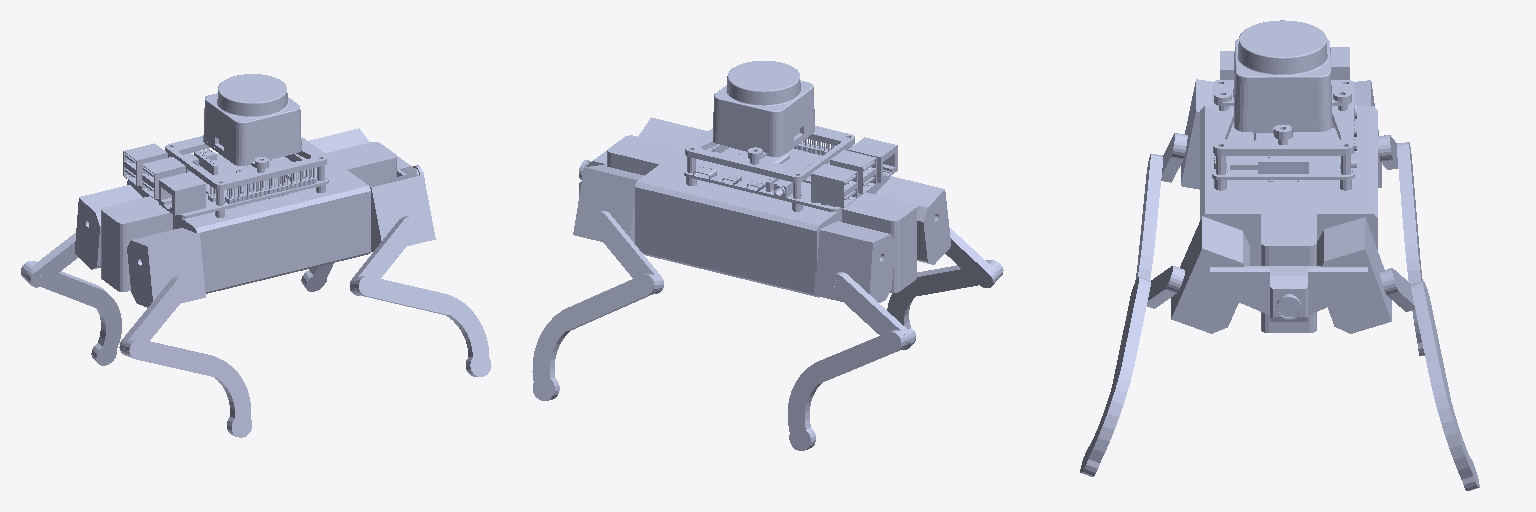
URDF robot description (quadruped_robot):
<?xml version="1.0" encoding="utf-8"?>
<!-- This URDF was automatically created by SolidWorks to URDF Exporter! Originally created by [author] ([email redacted]) 
     Commit Version: 1.6.0-4-g7f85cfe  Build Version: 1.6.7995.38578
     For more information, please see http://wiki.ros.org/sw_urdf_exporter -->
<robot
  name="quadruped_robot">
  <link
    name="base_link">
    <inertial>
      <origin
        xyz="2.5071E-05 -0.00017258 0.020875"
        rpy="0 0 0" />
      <mass
        value="0.3417" />
      <inertia
        ixx="0.00015104"
        ixy="-1.3934E-08"
        ixz="6.3507E-08"
        iyy="0.00047549"
        iyz="2.3538E-08"
        izz="0.00055234" />
    </inertial>
    <visual>
      <origin
        xyz="0 0 0"
        rpy="0 0 0" />
      <geometry>
        <mesh
          filename="package://robot_sim/meshes/base_link.STL" />
      </geometry>
      <material
        name="">
        <color
          rgba="0.79216 0.81961 0.93333 1" />
      </material>
    </visual>
    <collision>
      <origin
        xyz="0 0 0"
        rpy="0 0 0" />
      <geometry>
        <mesh
          filename="package://robot_sim/meshes/base_link.STL" />
      </geometry>
    </collision>
  </link>
  <link
    name="servo_1_link">
    <inertial>
      <origin
        xyz="0.015 -0.006638 -0.00063935"
        rpy="0 0 0" />
      <mass
        value="0.020716" />
      <inertia
        ixx="2.6167E-06"
        ixy="-4.0064E-22"
        ixz="-1.926E-22"
        iyy="2.3693E-06"
        iyz="6.9329E-09"
        izz="3.3455E-06" />
    </inertial>
    <visual>
      <origin
        xyz="0 0 0"
        rpy="0 0 0" />
      <geometry>
        <mesh
          filename="package://robot_sim/meshes/servo_1_link.STL" />
      </geometry>
      <material
        name="">
        <color
          rgba="0.79216 0.81961 0.93333 1" />
      </material>
    </visual>
    <collision>
      <origin
        xyz="0 0 0"
        rpy="0 0 0" />
      <geometry>
        <mesh
          filename="package://robot_sim/meshes/servo_1_link.STL" />
      </geometry>
    </collision>
  </link>
  <joint
    name="servo_1_joint"
    type="continuous">
    <origin
      xyz="0.05 -0.026 0.024"
      rpy="1.19325088290338 0 0" />
    <parent
      link="base_link" />
    <child
      link="servo_1_link" />
    <axis
      xyz="1 0 0" />
  </joint>
  <link
    name="leg_1_link">
    <inertial>
      <origin
        xyz="-0.02 -6.7828E-14 0.015304"
        rpy="0 0 0" />
      <mass
        value="0.002267" />
      <inertia
        ixx="2.3718E-08"
        ixy="-1.3229E-18"
        ixz="7.6928E-23"
        iyy="4.1387E-07"
        iyz="-2.647E-23"
        izz="4.2814E-07" />
    </inertial>
    <visual>
      <origin
        xyz="0 0 0"
        rpy="0 0 0" />
      <geometry>
        <mesh
          filename="package://robot_sim/meshes/leg_1_link.STL" />
      </geometry>
      <material
        name="">
        <color
          rgba="0.79216 0.81961 0.93333 1" />
      </material>
    </visual>
    <collision>
      <origin
        xyz="0 0 0"
        rpy="0 0 0" />
      <geometry>
        <mesh
          filename="package://robot_sim/meshes/leg_1_link.STL" />
      </geometry>
    </collision>
  </link>
  <joint
    name="leg_1_joint"
    type="continuous">
    <origin
      xyz="0.015 -0.013 -0.00280397218834483"
      rpy="0 0 0.625000267634323" />
    <parent
      link="servo_1_link" />
    <child
      link="leg_1_link" />
    <axis
      xyz="0 0 -1" />
  </joint>
  <link
    name="foot_1_link">
    <inertial>
      <origin
        xyz="0.039601 0.0056225 -0.030222"
        rpy="0 0 0" />
      <mass
        value="0.0046685" />
      <inertia
        ixx="4.2091E-07"
        ixy="-7.4925E-07"
        ixz="1.2441E-08"
        iyy="2.757E-06"
        iyz="1.7664E-09"
        izz="3.1554E-06" />
    </inertial>
    <visual>
      <origin
        xyz="0 0 0"
        rpy="0 0 0" />
      <geometry>
        <mesh
          filename="package://robot_sim/meshes/foot_1_link.STL" />
      </geometry>
      <material
        name="">
        <color
          rgba="0.79216 0.81961 0.93333 1" />
      </material>
    </visual>
    <collision>
      <origin
        xyz="0 0 0"
        rpy="0 0 0" />
      <geometry>
        <mesh
          filename="package://robot_sim/meshes/foot_1_link.STL" />
      </geometry>
    </collision>
  </link>
  <joint
    name="foot_1_joint"
    type="continuous">
    <origin
      xyz="-0.04 0 -0.00998527475373712"
      rpy="3.14159265358979 0 -1.04037357500652" />
    <parent
      link="leg_1_link" />
    <child
      link="foot_1_link" />
    <axis
      xyz="0 0 1" />
  </joint>
  <link
    name="servo_2_link">
    <inertial>
      <origin
        xyz="-0.015 -0.006638 -0.00063935"
        rpy="0 0 0" />
      <mass
        value="0.020716" />
      <inertia
        ixx="2.6167E-06"
        ixy="2.9556E-22"
        ixz="-5.0625E-23"
        iyy="2.3693E-06"
        iyz="6.9329E-09"
        izz="3.3455E-06" />
    </inertial>
    <visual>
      <origin
        xyz="0 0 0"
        rpy="0 0 0" />
      <geometry>
        <mesh
          filename="package://robot_sim/meshes/servo_2_link.STL" />
      </geometry>
      <material
        name="">
        <color
          rgba="0.79216 0.81961 0.93333 1" />
      </material>
    </visual>
    <collision>
      <origin
        xyz="0 0 0"
        rpy="0 0 0" />
      <geometry>
        <mesh
          filename="package://robot_sim/meshes/servo_2_link.STL" />
      </geometry>
    </collision>
  </link>
  <joint
    name="servo_2_joint"
    type="continuous">
    <origin
      xyz="-0.05 -0.026 0.024"
      rpy="1.38644147063987 0 0" />
    <parent
      link="base_link" />
    <child
      link="servo_2_link" />
    <axis
      xyz="1 0 0" />
  </joint>
  <link
    name="leg_2_link">
    <inertial>
      <origin
        xyz="-0.02 -2.498E-16 0.0095174"
        rpy="0 0 0" />
      <mass
        value="0.002267" />
      <inertia
        ixx="2.3718E-08"
        ixy="1.5882E-22"
        ixz="-1.6812E-22"
        iyy="4.1387E-07"
        iyz="-1.9852E-23"
        izz="4.2814E-07" />
    </inertial>
    <visual>
      <origin
        xyz="0 0 0"
        rpy="0 0 0" />
      <geometry>
        <mesh
          filename="package://robot_sim/meshes/leg_2_link.STL" />
      </geometry>
      <material
        name="">
        <color
          rgba="0.79216 0.81961 0.93333 1" />
      </material>
    </visual>
    <collision>
      <origin
        xyz="0 0 0"
        rpy="0 0 0" />
      <geometry>
        <mesh
          filename="package://robot_sim/meshes/leg_2_link.STL" />
      </geometry>
    </collision>
  </link>
  <joint
    name="leg_2_joint"
    type="continuous">
    <origin
      xyz="-0.015 -0.013 0.00298261436575352"
      rpy="0 0 0.671619943025242" />
    <parent
      link="servo_2_link" />
    <child
      link="leg_2_link" />
    <axis
      xyz="0 0 -1" />
  </joint>
  <link
    name="foot_2_link">
    <inertial>
      <origin
        xyz="0.039601 0.0056225 -0.019364"
        rpy="0 0 0" />
      <mass
        value="0.0046685" />
      <inertia
        ixx="4.2091E-07"
        ixy="-7.4925E-07"
        ixz="1.2441E-08"
        iyy="2.757E-06"
        iyz="1.7664E-09"
        izz="3.1554E-06" />
    </inertial>
    <visual>
      <origin
        xyz="0 0 0"
        rpy="0 0 0" />
      <geometry>
        <mesh
          filename="package://robot_sim/meshes/foot_2_link.STL" />
      </geometry>
      <material
        name="">
        <color
          rgba="0.79216 0.81961 0.93333 1" />
      </material>
    </visual>
    <collision>
      <origin
        xyz="0 0 0"
        rpy="0 0 0" />
      <geometry>
        <mesh
          filename="package://robot_sim/meshes/foot_2_link.STL" />
      </geometry>
    </collision>
  </link>
  <joint
    name="foot_2_joint"
    type="continuous">
    <origin
      xyz="-0.0399999999999991 0 -0.0049140967243233"
      rpy="-3.14159265358979 0 -1.08209164870542" />
    <parent
      link="leg_2_link" />
    <child
      link="foot_2_link" />
    <axis
      xyz="0 0 1" />
  </joint>
  <link
    name="servo_3_link">
    <inertial>
      <origin
        xyz="0.015 -0.006638 -0.00063935"
        rpy="0 0 0" />
      <mass
        value="0.020716" />
      <inertia
        ixx="2.6167E-06"
        ixy="1.2835E-22"
        ixz="8.8166E-23"
        iyy="2.3693E-06"
        iyz="6.9329E-09"
        izz="3.3455E-06" />
    </inertial>
    <visual>
      <origin
        xyz="0 0 0"
        rpy="0 0 0" />
      <geometry>
        <mesh
          filename="package://robot_sim/meshes/servo_3_link.STL" />
      </geometry>
      <material
        name="">
        <color
          rgba="0.79216 0.81961 0.93333 1" />
      </material>
    </visual>
    <collision>
      <origin
        xyz="0 0 0"
        rpy="0 0 0" />
      <geometry>
        <mesh
          filename="package://robot_sim/meshes/servo_3_link.STL" />
      </geometry>
    </collision>
  </link>
  <joint
    name="servo_3_joint"
    type="continuous">
    <origin
      xyz="-0.05 0.0259999999999996 0.0240000000000004"
      rpy="1.43932790895367 0 3.14159265358979" />
    <parent
      link="base_link" />
    <child
      link="servo_3_link" />
    <axis
      xyz="-1 0 0" />
  </joint>
  <link
    name="leg_3_link">
    <inertial>
      <origin
        xyz="0.02 0 0.0024141"
        rpy="0 0 0" />
      <mass
        value="0.002267" />
      <inertia
        ixx="2.3718E-08"
        ixy="-1.4145E-22"
        ixz="-4.26E-23"
        iyy="4.1387E-07"
        iyz="-3.3087E-24"
        izz="4.2814E-07" />
    </inertial>
    <visual>
      <origin
        xyz="0 0 0"
        rpy="0 0 0" />
      <geometry>
        <mesh
          filename="package://robot_sim/meshes/leg_3_link.STL" />
      </geometry>
      <material
        name="">
        <color
          rgba="0.79216 0.81961 0.93333 1" />
      </material>
    </visual>
    <collision>
      <origin
        xyz="0 0 0"
        rpy="0 0 0" />
      <geometry>
        <mesh
          filename="package://robot_sim/meshes/leg_3_link.STL" />
      </geometry>
    </collision>
  </link>
  <joint
    name="leg_3_joint"
    type="continuous">
    <origin
      xyz="0.0149999999999994 -0.0129999999999998 0.0100859229791846"
      rpy="0 0 -0.524206506794894" />
    <parent
      link="servo_3_link" />
    <child
      link="leg_3_link" />
    <axis
      xyz="0 0 1" />
  </joint>
  <link
    name="foot_3_link">
    <inertial>
      <origin
        xyz="-0.039601 0.0056225 -0.0073468"
        rpy="0 0 0" />
      <mass
        value="0.0046685" />
      <inertia
        ixx="4.2091E-07"
        ixy="7.4925E-07"
        ixz="-1.2441E-08"
        iyy="2.757E-06"
        iyz="1.7664E-09"
        izz="3.1554E-06" />
    </inertial>
    <visual>
      <origin
        xyz="0 0 0"
        rpy="0 0 0" />
      <geometry>
        <mesh
          filename="package://robot_sim/meshes/foot_3_link.STL" />
      </geometry>
      <material
        name="">
        <color
          rgba="0.79216 0.81961 0.93333 1" />
      </material>
    </visual>
    <collision>
      <origin
        xyz="0 0 0"
        rpy="0 0 0" />
      <geometry>
        <mesh
          filename="package://robot_sim/meshes/foot_3_link.STL" />
      </geometry>
    </collision>
  </link>
  <joint
    name="foot_3_joint"
    type="continuous">
    <origin
      xyz="0.04 0 0"
      rpy="-3.14159265358979 0 1.07982204879055" />
    <parent
      link="leg_3_link" />
    <child
      link="foot_3_link" />
    <axis
      xyz="0 0 -1" />
  </joint>
  <link
    name="servo_4_link">
    <inertial>
      <origin
        xyz="-0.015 -0.006638 -0.00063935"
        rpy="0 0 0" />
      <mass
        value="0.020716" />
      <inertia
        ixx="2.6167E-06"
        ixy="-9.6289E-23"
        ixz="1.5371E-22"
        iyy="2.3693E-06"
        iyz="6.9329E-09"
        izz="3.3455E-06" />
    </inertial>
    <visual>
      <origin
        xyz="0 0 0"
        rpy="0 0 0" />
      <geometry>
        <mesh
          filename="package://robot_sim/meshes/servo_4_link.STL" />
      </geometry>
      <material
        name="">
        <color
          rgba="0.79216 0.81961 0.93333 1" />
      </material>
    </visual>
    <collision>
      <origin
        xyz="0 0 0"
        rpy="0 0 0" />
      <geometry>
        <mesh
          filename="package://robot_sim/meshes/servo_4_link.STL" />
      </geometry>
    </collision>
  </link>
  <joint
    name="servo_4_joints"
    type="continuous">
    <origin
      xyz="0.05 0.0259999999999998 0.0239999999999998"
      rpy="1.2521204794546 0 3.14159265358979" />
    <parent
      link="base_link" />
    <child
      link="servo_4_link" />
    <axis
      xyz="-1 0 0" />
  </joint>
  <link
    name="leg_4_link">
    <inertial>
      <origin
        xyz="0.02 0 0.0020092"
        rpy="0 0 0" />
      <mass
        value="0.002267" />
      <inertia
        ixx="2.3718E-08"
        ixy="6.6174E-23"
        ixz="1.613E-22"
        iyy="4.1387E-07"
        iyz="-6.6174E-24"
        izz="4.2814E-07" />
    </inertial>
    <visual>
      <origin
        xyz="0 0 0"
        rpy="0 0 0" />
      <geometry>
        <mesh
          filename="package://robot_sim/meshes/leg_4_link.STL" />
      </geometry>
      <material
        name="">
        <color
          rgba="0.79216 0.81961 0.93333 1" />
      </material>
    </visual>
    <collision>
      <origin
        xyz="0 0 0"
        rpy="0 0 0" />
      <geometry>
        <mesh
          filename="package://robot_sim/meshes/leg_4_link.STL" />
      </geometry>
    </collision>
  </link>
  <joint
    name="leg_4_joint"
    type="continuous">
    <origin
      xyz="-0.0150000000000001 -0.013 0.0104908137521414"
      rpy="0 0 -0.625428082238554" />
    <parent
      link="servo_4_link" />
    <child
      link="leg_4_link" />
    <axis
      xyz="0 0 1" />
  </joint>
  <link
    name="foot_4_link">
    <inertial>
      <origin
        xyz="-0.039601 0.0056225 -0.0069419"
        rpy="0 0 0" />
      <mass
        value="0.0046685" />
      <inertia
        ixx="4.2091E-07"
        ixy="7.4925E-07"
        ixz="-1.2441E-08"
        iyy="2.757E-06"
        iyz="1.7664E-09"
        izz="3.1554E-06" />
    </inertial>
    <visual>
      <origin
        xyz="0 0 0"
        rpy="0 0 0" />
      <geometry>
        <mesh
          filename="package://robot_sim/meshes/foot_4_link.STL" />
      </geometry>
      <material
        name="">
        <color
          rgba="0.79216 0.81961 0.93333 1" />
      </material>
    </visual>
    <collision>
      <origin
        xyz="0 0 0"
        rpy="0 0 0" />
      <geometry>
        <mesh
          filename="package://robot_sim/meshes/foot_4_link.STL" />
      </geometry>
    </collision>
  </link>
  <joint
    name="foot_4_joint"
    type="continuous">
    <origin
      xyz="0.04 0 0"
      rpy="-3.14159265358979 0 1.20568652407404" />
    <parent
      link="leg_4_link" />
    <child
      link="foot_4_link" />
    <axis
      xyz="0 0 -1" />
  </joint>
</robot>

--- Facts derived from the render (not from the file) ---
Views: 3 orthographic renders of the robot side by side, from view 1: azimuth 30°, elevation 25°; view 2: azimuth 150°, elevation 25°; view 3: azimuth 270°, elevation 25°.
Model quadruped_robot with 13 links and 12 joints (12 continuous), rooted at base_link, posed all joints at 0.
Links seen in each view (by area): view 1: base_link, servo_2_link, foot_1_link, foot_2_link, servo_1_link, foot_3_link, servo_3_link, leg_2_link, leg_1_link, leg_3_link, servo_4_link, foot_4_link; view 2: base_link, servo_3_link, foot_4_link, foot_3_link, servo_4_link, servo_2_link, foot_2_link, leg_3_link, leg_4_link, leg_2_link, servo_1_link; view 3: base_link, servo_1_link, servo_4_link, foot_1_link, foot_4_link, foot_3_link, foot_2_link, servo_2_link, leg_1_link, leg_4_link, leg_2_link, servo_3_link (+1 smaller).
Boxes of the visible links, bbox=[...] form: base_link: bbox=[101, 74, 424, 293]; servo_2_link: bbox=[127, 228, 205, 307]; foot_1_link: bbox=[354, 276, 491, 376]; foot_2_link: bbox=[124, 338, 251, 437]; servo_1_link: bbox=[367, 174, 435, 251]; foot_3_link: bbox=[21, 261, 121, 365]; servo_3_link: bbox=[75, 185, 142, 269]; leg_2_link: bbox=[119, 275, 191, 356]; leg_1_link: bbox=[350, 216, 419, 295]; leg_3_link: bbox=[25, 233, 78, 287]; servo_4_link: bbox=[309, 128, 369, 152]; foot_4_link: bbox=[301, 263, 333, 291]; base_link: bbox=[579, 61, 916, 297]; servo_3_link: bbox=[814, 221, 894, 302]; foot_4_link: bbox=[532, 274, 658, 400]; foot_3_link: bbox=[788, 330, 906, 450]; servo_4_link: bbox=[573, 165, 643, 243]; servo_2_link: bbox=[875, 176, 950, 264]; foot_2_link: bbox=[887, 260, 1003, 349]; leg_3_link: bbox=[828, 272, 911, 348]; leg_4_link: bbox=[589, 211, 663, 293]; leg_2_link: bbox=[945, 227, 997, 287]; servo_1_link: bbox=[638, 117, 704, 147]; base_link: bbox=[1200, 20, 1377, 332]; servo_1_link: bbox=[1167, 216, 1249, 333]; servo_4_link: bbox=[1317, 217, 1397, 333]; foot_1_link: bbox=[1080, 277, 1150, 476]; foot_4_link: bbox=[1411, 281, 1479, 490]; foot_3_link: bbox=[1397, 142, 1424, 355]; foot_2_link: bbox=[1135, 154, 1162, 281]; servo_2_link: bbox=[1172, 79, 1212, 189]; leg_1_link: bbox=[1147, 266, 1184, 308]; leg_4_link: bbox=[1380, 268, 1414, 311]; leg_2_link: bbox=[1161, 133, 1187, 182]; servo_3_link: bbox=[1353, 80, 1391, 187].
Bounding box of the posed robot: 0.2019 × 0.1565 × 0.1616 m (x, y, z).
13 mesh visuals loaded from 13 distinct referenced files (13 binary STL).